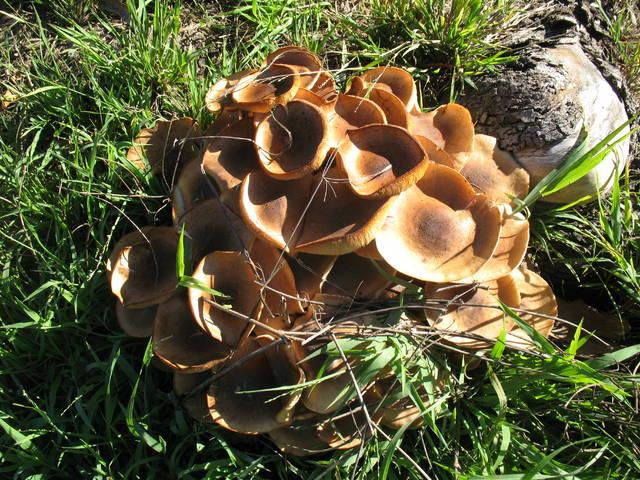edible_mushroom: (105, 44, 559, 456)
